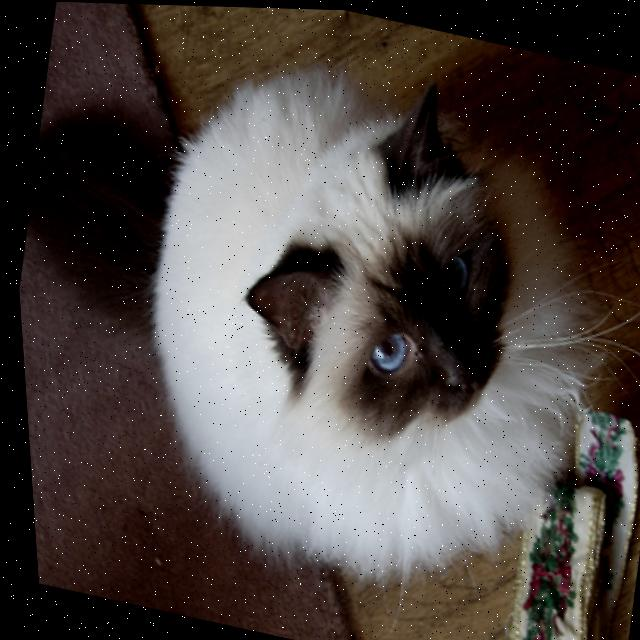Birman: (0, 4, 622, 611)
